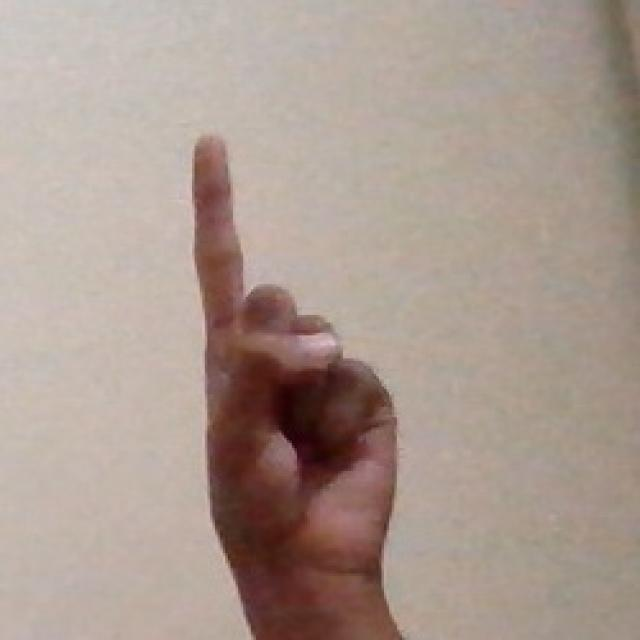Numeric-1: (192, 128, 404, 602)
